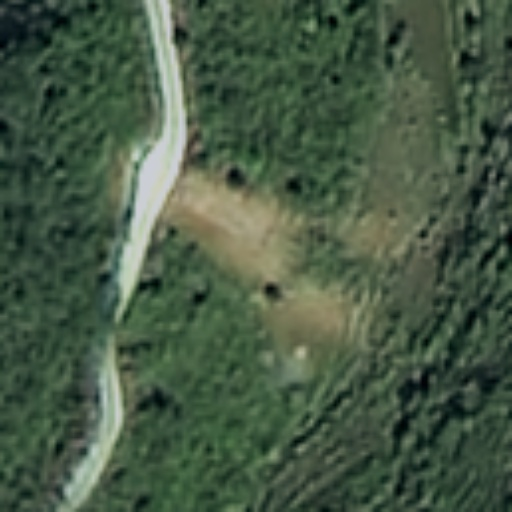landslide: (154, 168, 367, 349)
